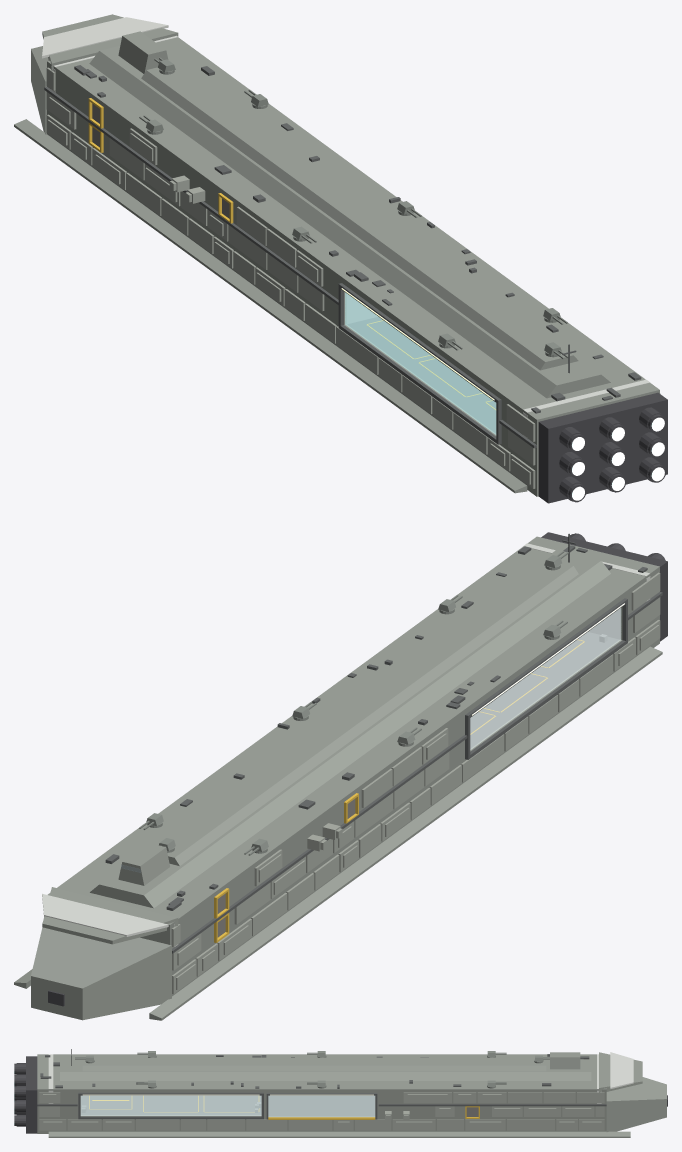
File: ship_LARGE_v2.glb
The picture shows the model from 3 angles, top to bottom: view 1: azimuth 30°, elevation 25°; view 2: azimuth 150°, elevation 25°; view 3: azimuth 270°, elevation 25°; orthographic projection. The views are drawn at different scales.
Parts seen in each view (by area): view 1: LARGE_Hull-col, LARGE_Armor, LARGE_Engines, LARGE_HangarShield_Port, LARGE_Trim, LARGE_Decks-col, LARGE_Accent, LARGE_Details, LARGE_EngineGlow, LARGE_Hazard; view 2: LARGE_Hull-col, LARGE_Armor, LARGE_HangarShield_Port, LARGE_Trim, LARGE_Decks-col, LARGE_Accent, LARGE_Engines, LARGE_Details, LARGE_Hazard; view 3: LARGE_Hull-col, LARGE_Armor, LARGE_HangarShield_Starboard, LARGE_Decks-col, LARGE_Trim, LARGE_CargoBayShield, LARGE_CargoBayDoor-col, LARGE_Engines, LARGE_Accent, LARGE_Hazard, LARGE_Lights, LARGE_Details.
Boxes of the visible parts, x1,y1,x2,y2 form: LARGE_Hull-col: (14,14,659,496); LARGE_Armor: (46,67,660,488); LARGE_Engines: (538,392,667,503); LARGE_HangarShield_Port: (345,292,496,434); LARGE_Trim: (44,86,536,448); LARGE_Decks-col: (347,317,496,433); LARGE_Accent: (42,17,649,437); LARGE_Details: (74,65,641,413); LARGE_EngineGlow: (572,417,664,500); LARGE_Hazard: (88,98,495,409); LARGE_Hull-col: (14,536,662,1020); LARGE_Armor: (171,572,660,994); LARGE_HangarShield_Port: (470,608,621,749); LARGE_Trim: (172,592,662,953); LARGE_Decks-col: (470,632,618,748); LARGE_Accent: (42,543,650,946); LARGE_Engines: (48,532,667,1006); LARGE_Details: (105,533,647,910); LARGE_Hazard: (214,639,584,942); LARGE_Hull-col: (37,1052,666,1137); LARGE_Armor: (39,1092,604,1130); LARGE_HangarShield_Starboard: (80,1095,261,1115); LARGE_Decks-col: (80,1095,261,1115); LARGE_Trim: (37,1092,606,1119); LARGE_CargoBayShield: (268,1095,375,1116); LARGE_CargoBayDoor-col: (268,1095,375,1116); LARGE_Engines: (14,1056,667,1133); LARGE_Accent: (48,1052,633,1103); LARGE_Hazard: (89,1096,479,1119); LARGE_Lights: (83,1094,373,1095); LARGE_Details: (40,1049,589,1088).
Bounding box in the file's own units: 27.3 × 21.4 × 174.
